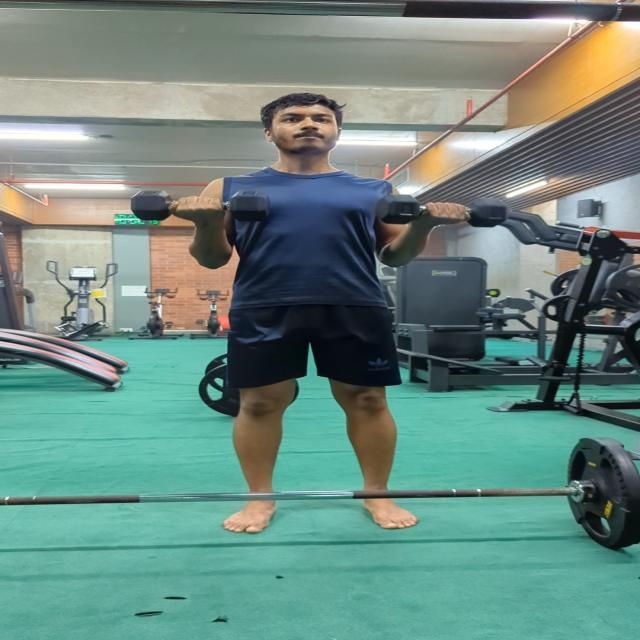Normal_DumbbellBicepCurls: (118, 88, 516, 536)
